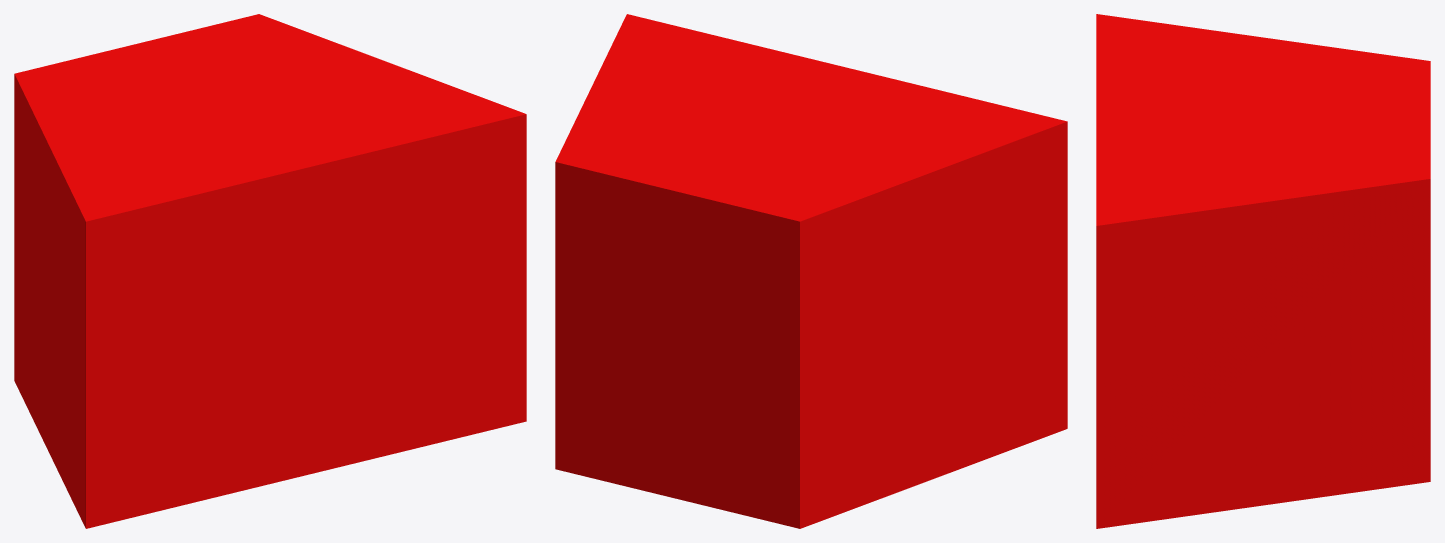
The picture shows the model from 3 angles, left to right: view 1: azimuth 30°, elevation 25°; view 2: azimuth 150°, elevation 25°; view 3: azimuth 270°, elevation 25°; orthographic projection.
Parts seen in each view (by area): view 1: node0; view 2: node0; view 3: node0.
Part boxes in pixels (<box>): node0: <box>14,14,526,528</box>; node0: <box>555,14,1067,528</box>; node0: <box>1096,14,1430,528</box>.
Bounding box in the file's own units: 0.09 × 0.06 × 0.06.
